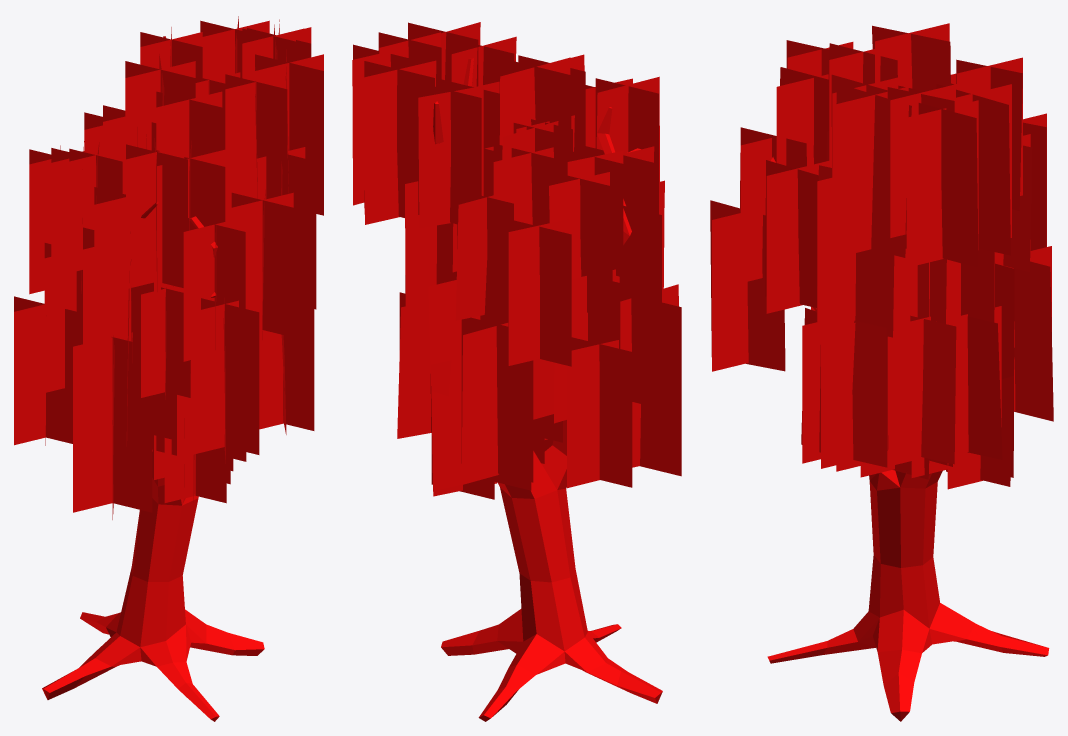
The model's file is TrunkandLeaves2.fbx.
3 renders of one model, left to right at view 1: azimuth 30°, elevation 25°; view 2: azimuth 150°, elevation 25°; view 3: azimuth 270°, elevation 25°, orthographic. The views are drawn at different scales.
Parts seen in each view (by area): view 1: Leave.045, TreeTrunk; view 2: Leave.045, TreeTrunk; view 3: Leave.045, TreeTrunk.
Part boxes in pixels (left/top/right/bottom): Leave.045: left=14, top=16, right=323, bottom=519; TreeTrunk: left=42, top=36, right=264, bottom=721; Leave.045: left=352, top=22, right=681, bottom=499; TreeTrunk: left=433, top=58, right=662, bottom=721; Leave.045: left=710, top=23, right=1053, bottom=489; TreeTrunk: left=767, top=157, right=1049, bottom=721.
Bounding box in the file's own units: 270 × 548 × 265.
